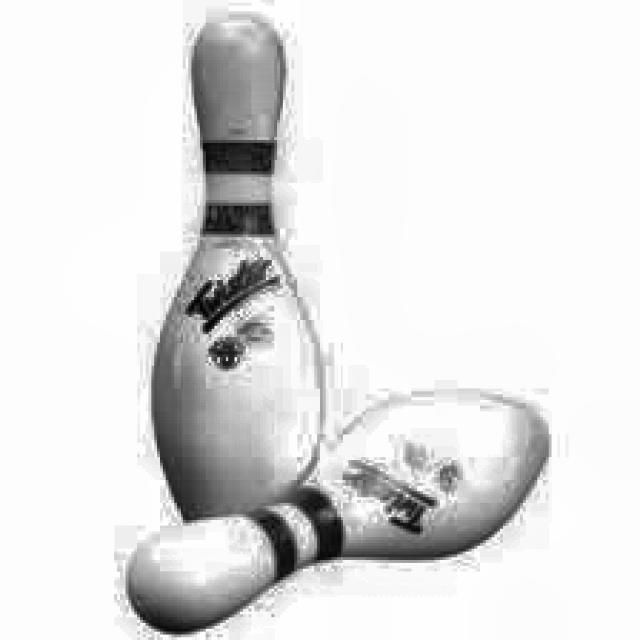bowling-pins: (154, 20, 323, 521)
